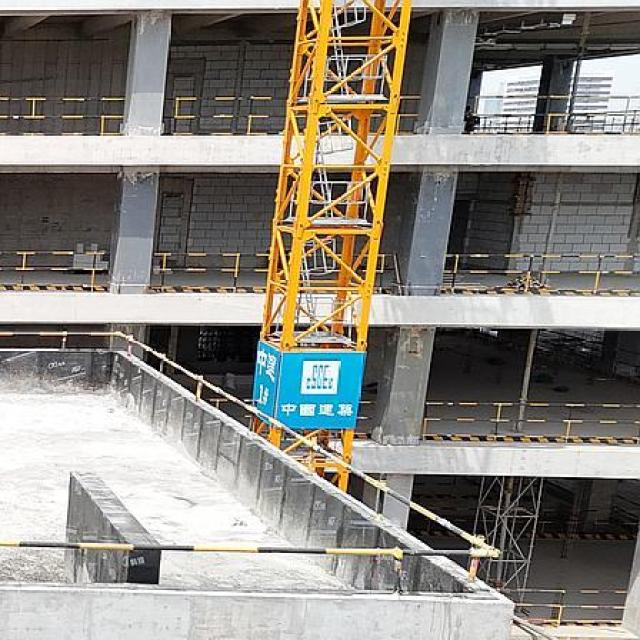edge_guardrail: (0, 329, 501, 597), (150, 250, 406, 294), (160, 96, 423, 136), (421, 400, 640, 444), (440, 253, 640, 296), (461, 94, 640, 136), (204, 397, 376, 436), (0, 96, 126, 136), (504, 587, 629, 626), (0, 250, 110, 293)
